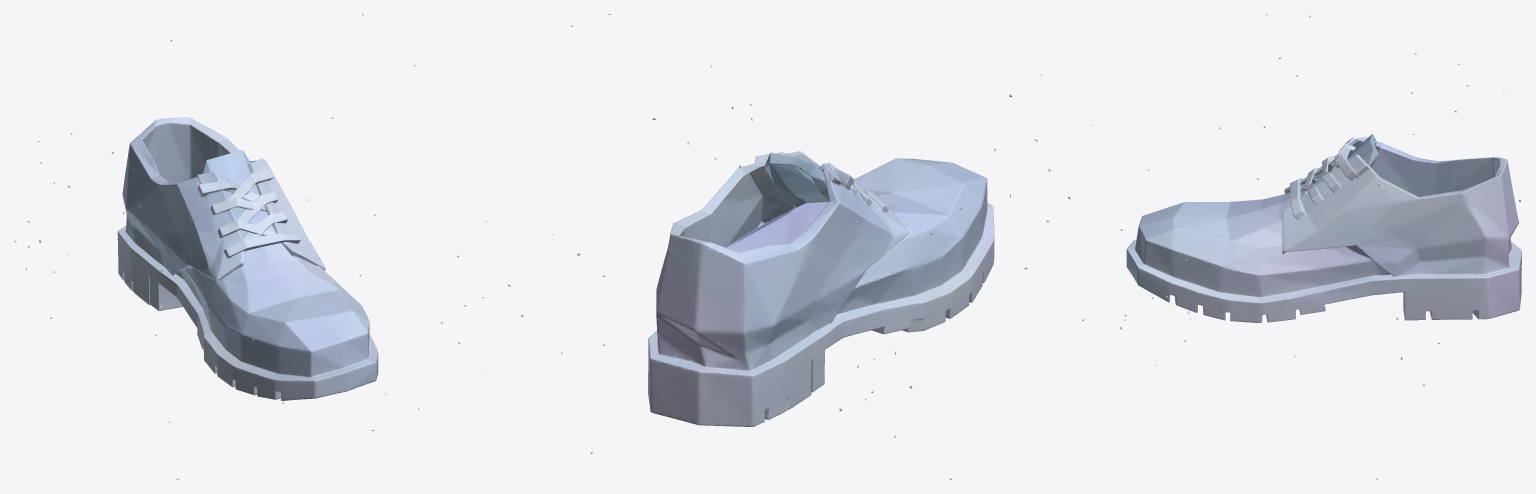
The model's file is lowpoly-shoe-escape.glb.
3 renders of one model, left to right at view 1: azimuth 30°, elevation 25°; view 2: azimuth 150°, elevation 25°; view 3: azimuth 270°, elevation 25°, orthographic. The views are drawn at different scales.
Parts seen in each view (by area): view 1: geometry_0; view 2: geometry_0; view 3: geometry_0.
Part boxes in pixels (left/top/right/bottom): geometry_0: left=14, top=14, right=523, bottom=479; geometry_0: left=552, top=14, right=1091, bottom=479; geometry_0: left=1120, top=14, right=1521, bottom=479.
Size of the model in its own units: 0.9146 by 0.9467 by 1.
1 material, 1 textured.
